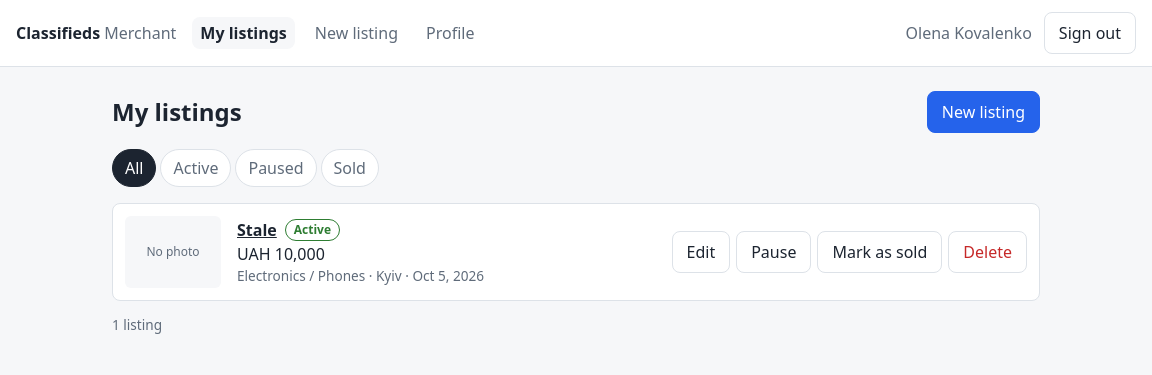
Test: my listings page › shows the error when a status change is rejected
expect the list item "Stale" is shown: met, box [112,203,1040,301]
Click the button "Pause". click: (774, 252)
box: [736,231,811,273]
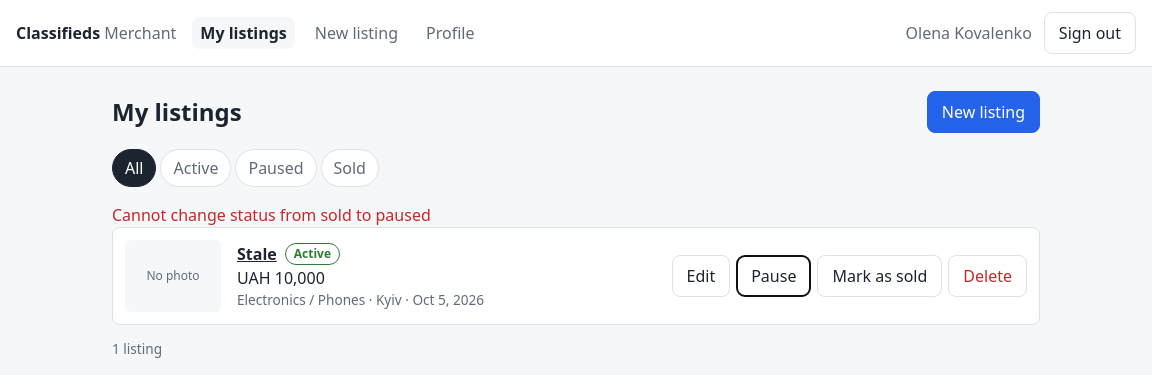
expect the message reads "Cannot change status from sold to paused": met, box [112,204,431,226]
